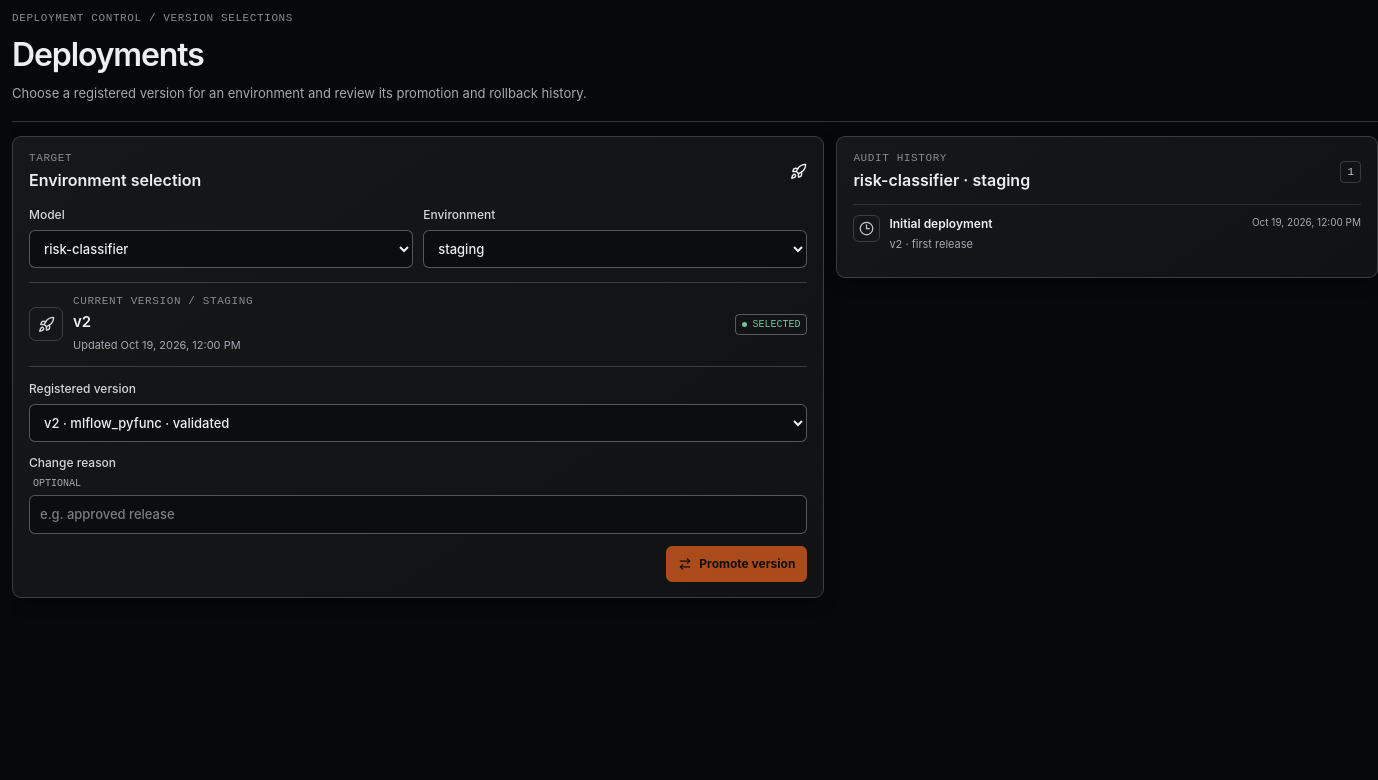
Scenario: Deployments page › requires explicit confirmation before promoting a selected version
expect the text "Initial deployment" is shown: met, box [889,216,992,230]
Select "v1 · mlflow_pyfunc · validated" in the dropdown labelled "Registered version". click: {"x": 418, "y": 422}
box: [29,404,807,442]
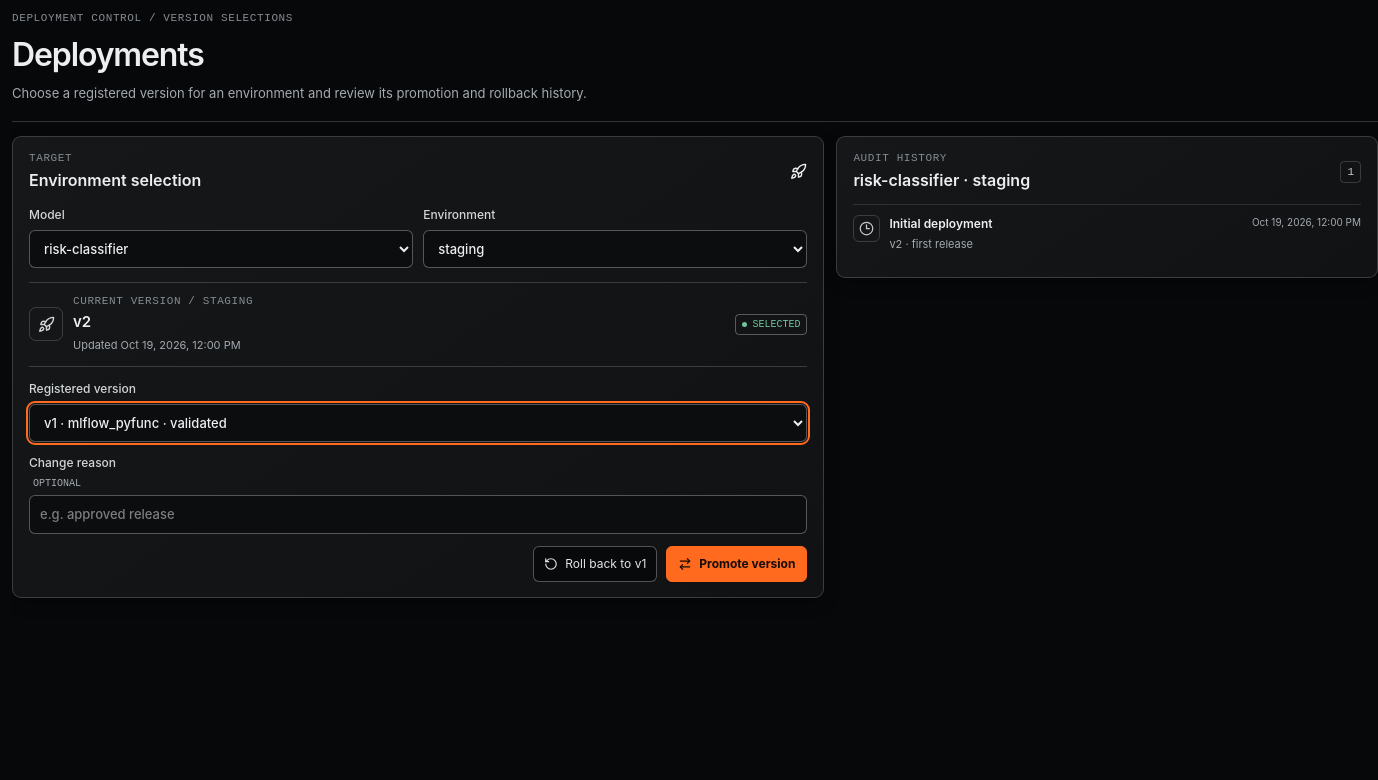
Type "approved release" into the field labelled "Change reason OPTIONAL". click: {"x": 418, "y": 514}
box: [29,494,807,534]
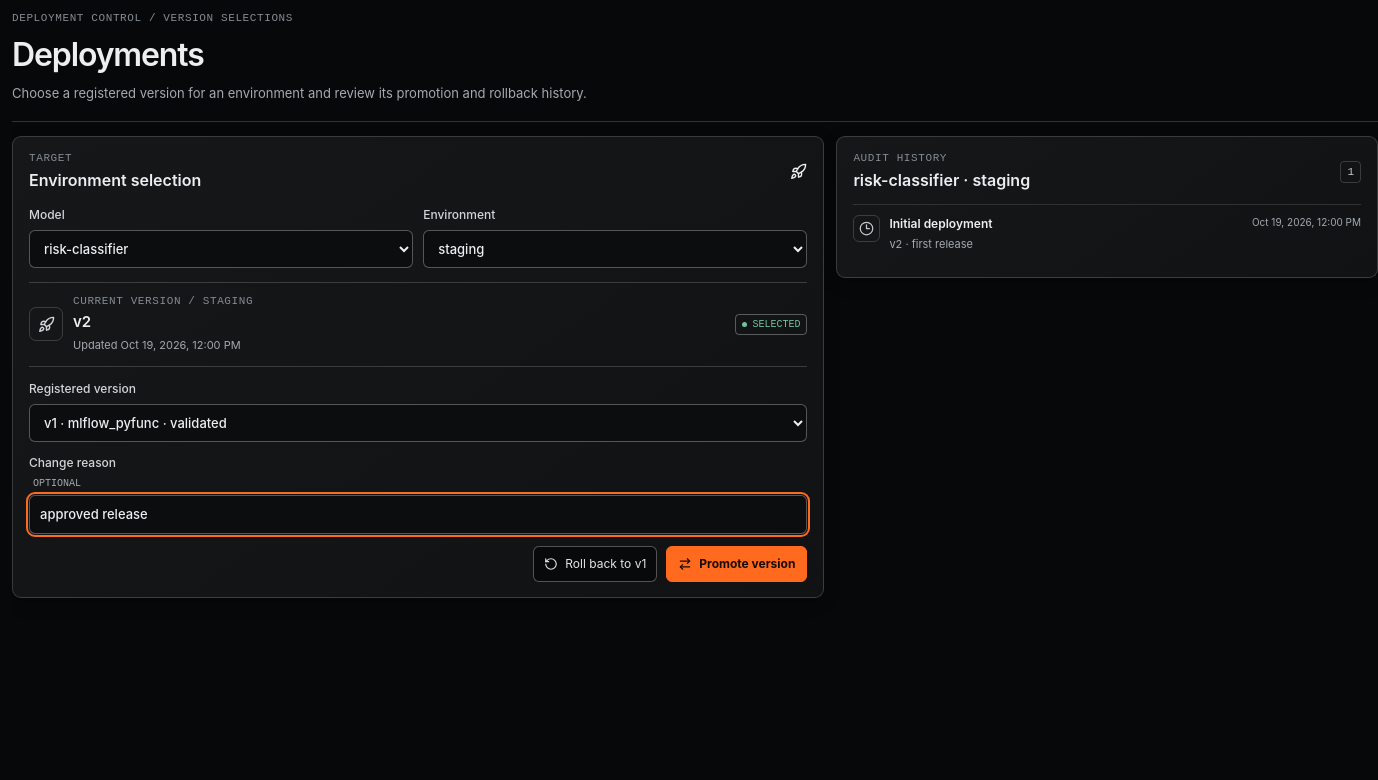
Click the button "Promote version". click: {"x": 737, "y": 564}
box: [666,546,807,582]
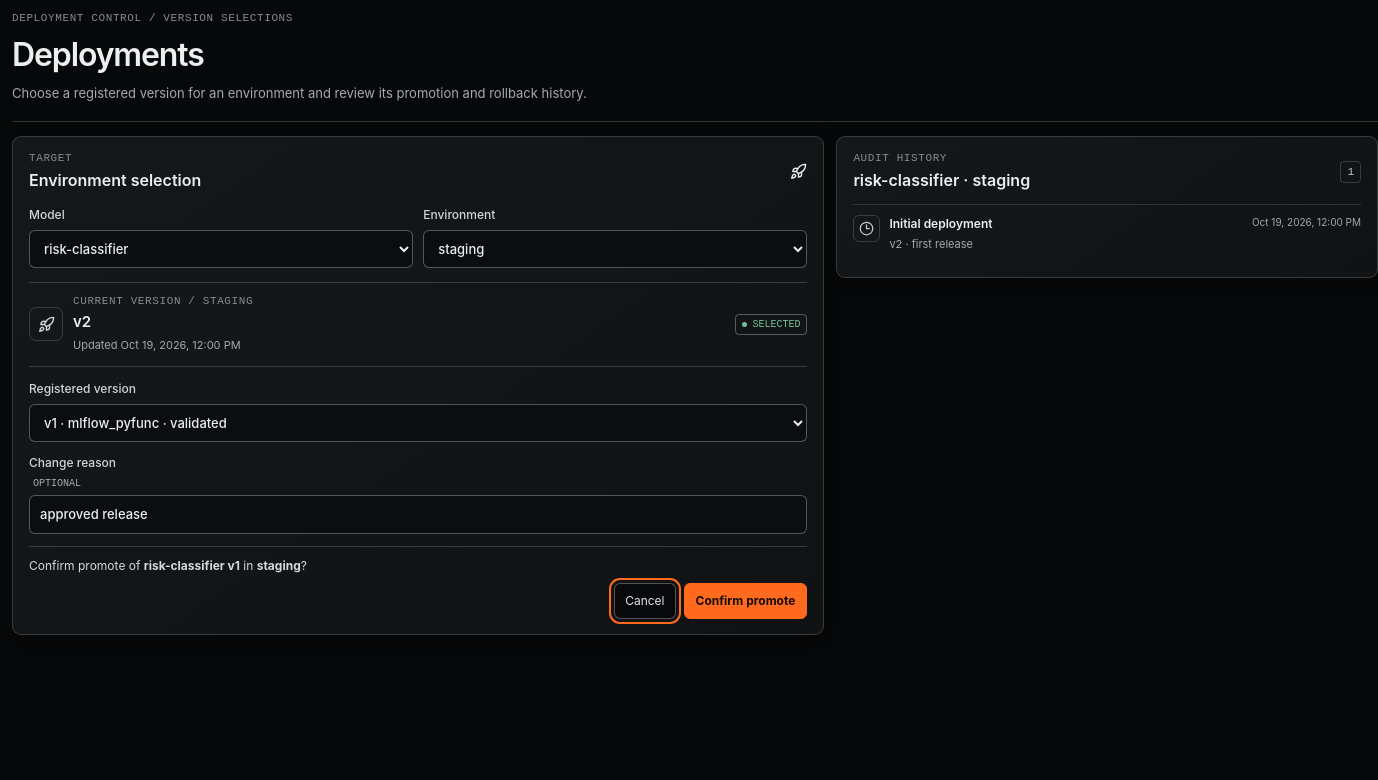
expect the element named "Confirm deployment change" shows "risk-classifier v1": met, box [29,546,807,619]
Click the button "Confirm promote". click: {"x": 745, "y": 601}
box: [684,583,807,619]
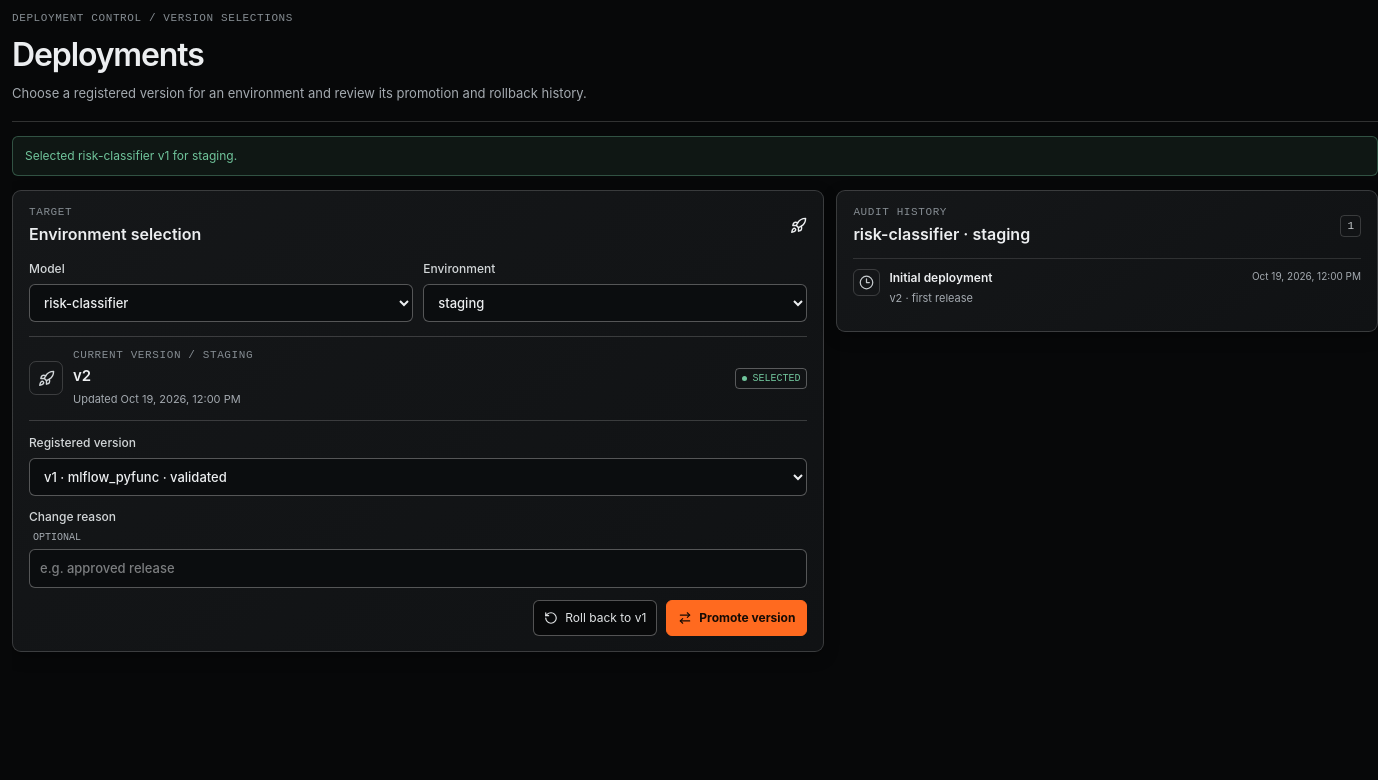
expect the message reads "Selected risk-classifier v1 for staging.": met, box [25,148,237,162]
